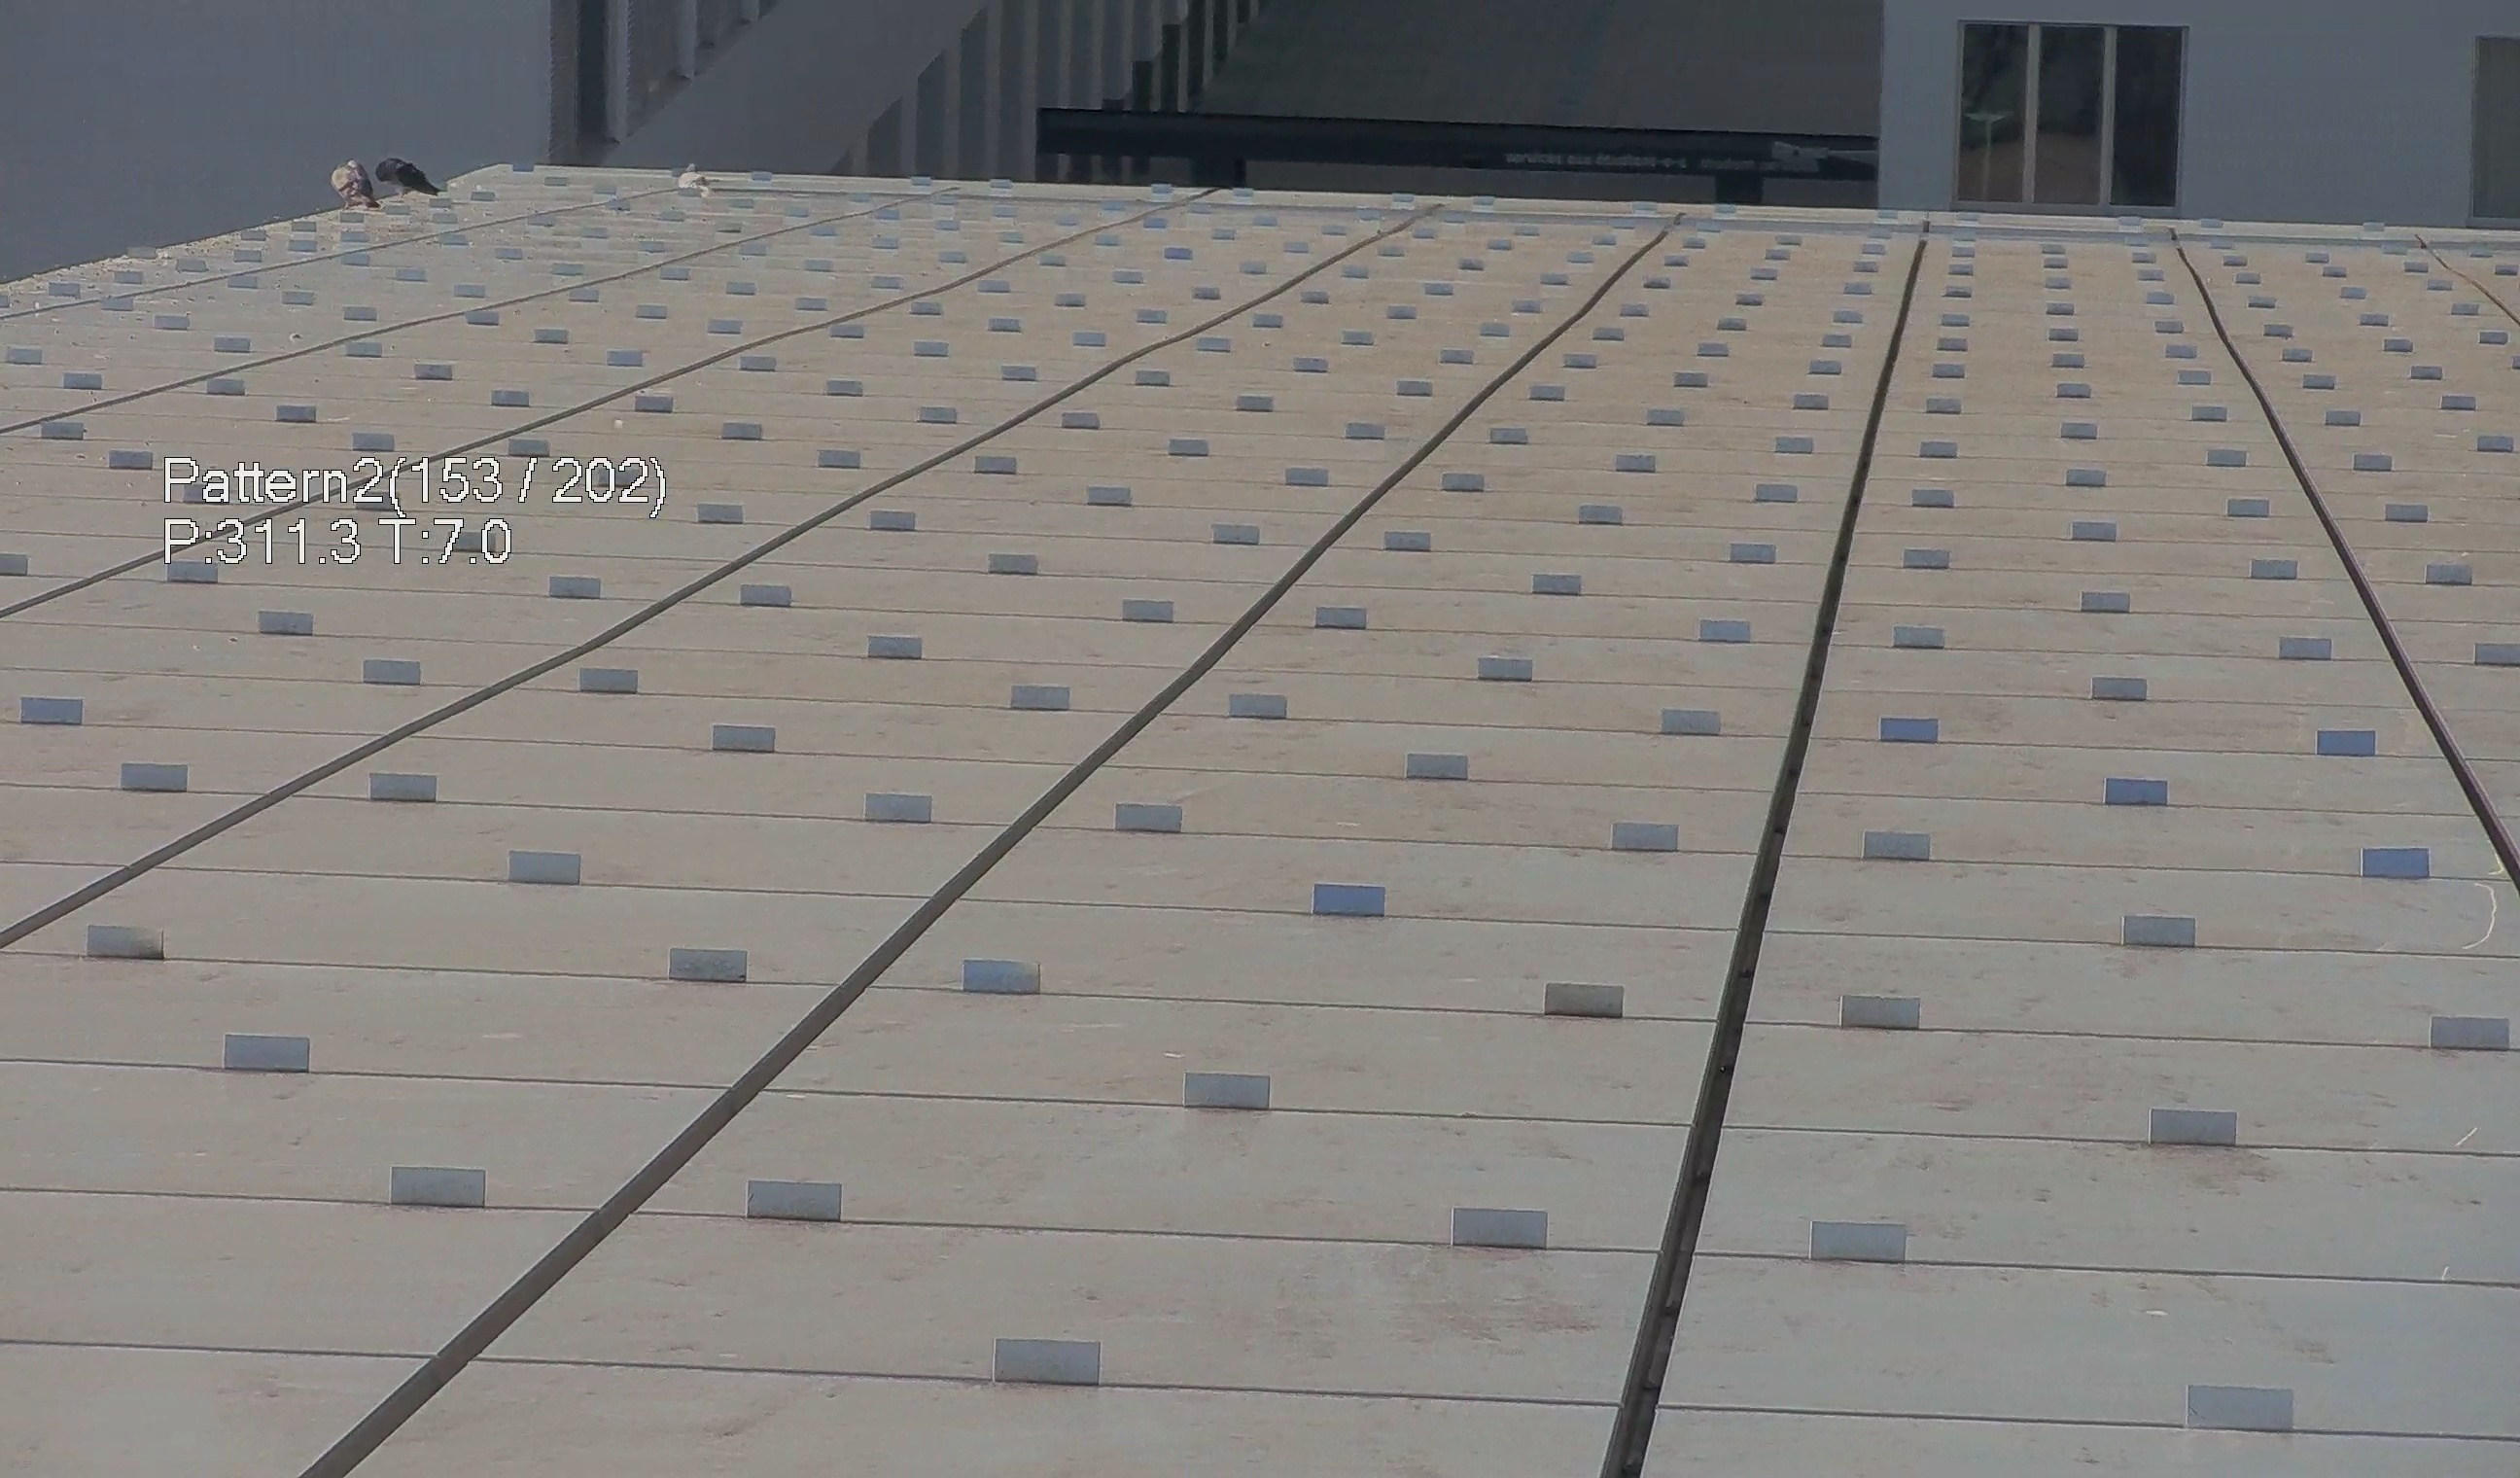Pigeon: (371, 143, 440, 208), (318, 151, 375, 220), (670, 158, 714, 199)
